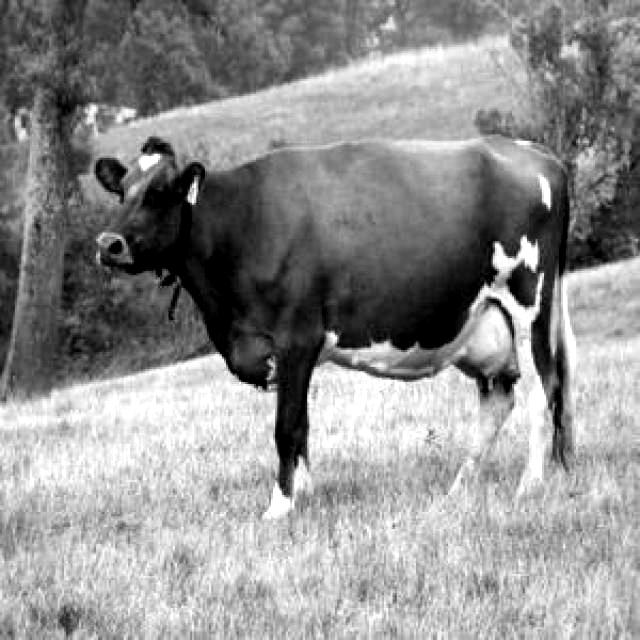COW: (95, 136, 575, 518)
